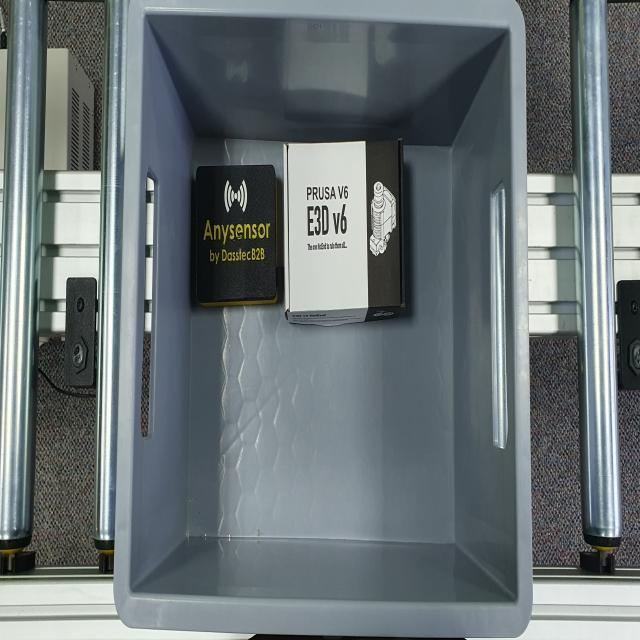box: (282, 140, 406, 320), (195, 164, 278, 308)
